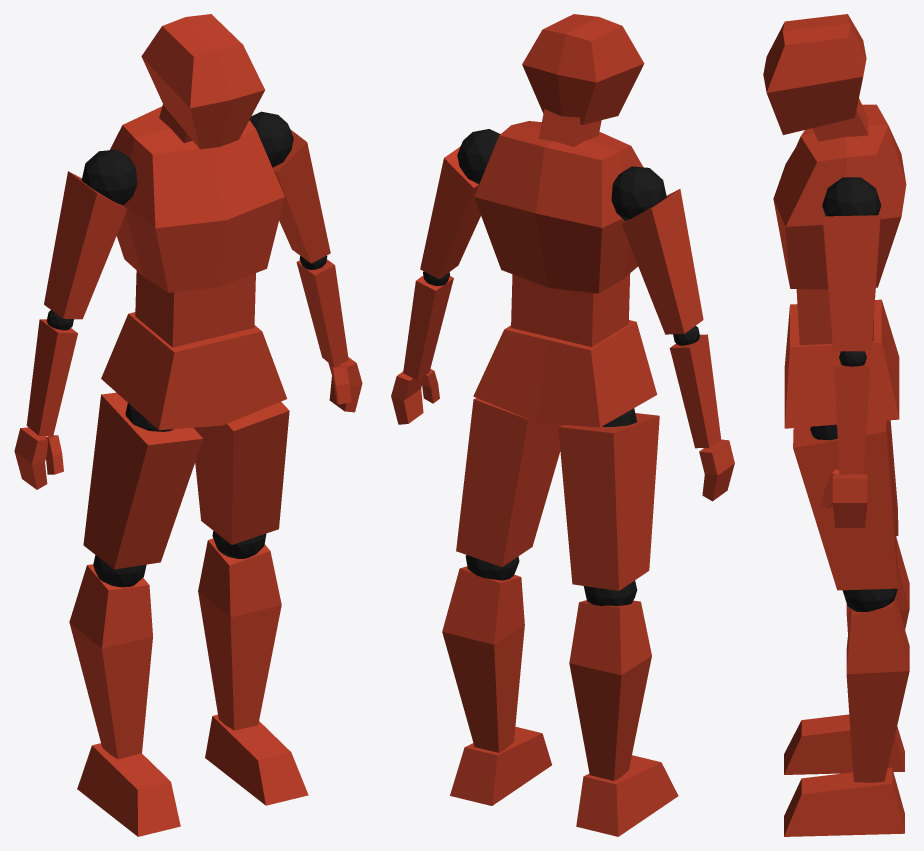
Rendered from dummy.fbx.
The picture shows the model from 3 angles, left to right: view 1: azimuth 30°, elevation 25°; view 2: azimuth 150°, elevation 25°; view 3: azimuth 270°, elevation 25°; orthographic projection.
Parts seen in each view (by area): view 1: Cube.002, Cube.004, Cube.008, Cube.009, Cube.006, Cube, Cube.005, Cube.023, Cube.003, Cube.012, Cube.007, Cube.015 (+8 smaller); view 2: Cube.002, Cube.008, Cube.004, Cube.005, Cube.006, Cube.009, Cube, Cube.023, Cube.003, Cube.012, Cube.007, Cube.015 (+9 smaller); view 3: Cube.002, Cube.005, Cube, Cube.006, Cube.004, Cube.015, Cube.007, Cube.012, Cube.016, Icosphere.004, Cube.003, Cube.010 (+7 smaller).
Part boxes in pixels (left/top/right/bottom): Cube.002: left=110, top=106, right=284, bottom=292; Cube.004: left=101, top=312, right=287, bottom=430; Cube.008: left=83, top=392, right=203, bottom=569; Cube.009: left=69, top=564, right=152, bottom=759; Cube.006: left=198, top=538, right=281, bottom=730; Cube: left=141, top=14, right=264, bottom=149; Cube.005: left=193, top=401, right=289, bottom=544; Cube.023: left=44, top=171, right=127, bottom=319; Cube.003: left=135, top=271, right=255, bottom=347; Cube.012: left=77, top=743, right=180, bottom=836; Cube.007: left=205, top=714, right=308, bottom=805; Cube.015: left=273, top=129, right=330, bottom=263; Cube.002: left=474, top=121, right=642, bottom=293; Cube.008: left=558, top=413, right=659, bottom=590; Cube.004: left=473, top=320, right=657, bottom=427; Cube.005: left=456, top=398, right=563, bottom=566; Cube.006: left=442, top=566, right=524, bottom=752; Cube.009: left=569, top=600, right=651, bottom=780; Cube: left=522, top=14, right=644, bottom=124; Cube.023: left=621, top=189, right=703, bottom=334; Cube.003: left=511, top=273, right=630, bottom=346; Cube.012: left=576, top=755, right=678, bottom=836; Cube.007: left=450, top=726, right=551, bottom=805; Cube.015: left=420, top=146, right=480, bottom=279; Cube.002: left=773, top=104, right=906, bottom=289; Cube.005: left=793, top=420, right=898, bottom=590; Cube: left=763, top=14, right=866, bottom=134; Cube.006: left=846, top=597, right=909, bottom=782; Cube.004: left=784, top=299, right=899, bottom=428; Cube.015: left=823, top=215, right=880, bottom=351; Cube.007: left=784, top=767, right=904, bottom=836; Cube.012: left=784, top=714, right=904, bottom=774; Cube.016: left=834, top=362, right=870, bottom=474; Icosphere.004: left=822, top=177, right=881, bottom=216; Cube.003: left=796, top=289, right=873, bottom=345; Cube.010: left=832, top=474, right=867, bottom=527.
Size of the model in its own units: 92.02 by 206 by 35.56.
